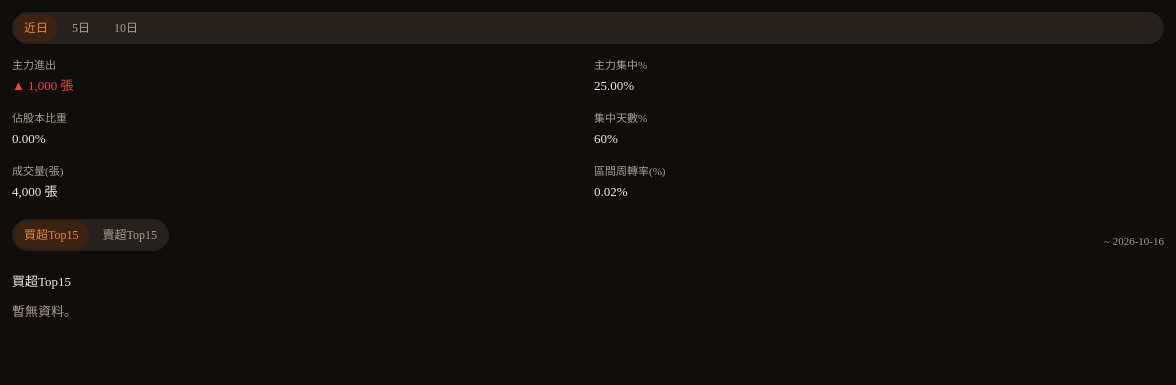
Scenario: ChipFlowsBody data › toggles between the buy and sell tables, and says when one side is empty
Expected: the heading "買超Top15" is shown, [12,274,71,289]
Expected: the text "暫無資料。" is shown, [12,304,77,319]
Step 1. Click the button "賣超Top15" → click(130, 235), box [92,221,167,249]
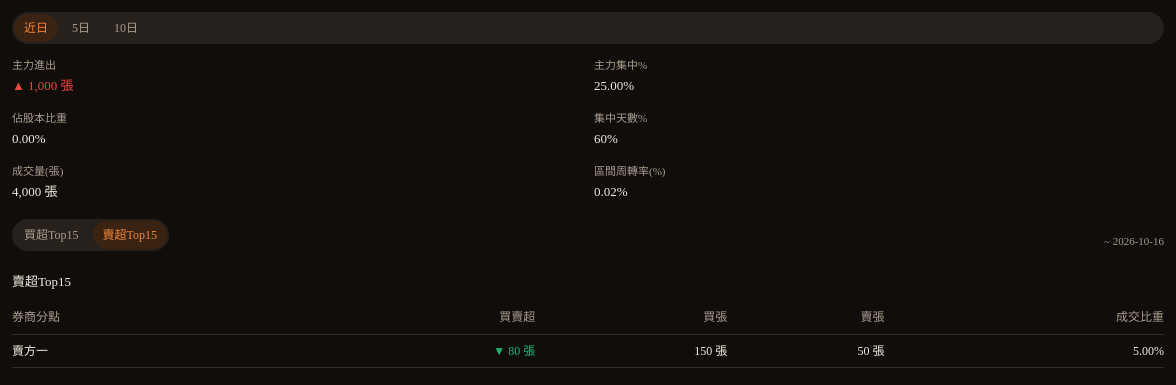
Expected: the heading "賣超Top15" is shown, [12,274,71,289]
Expected: the text "賣方一" is shown, [12,334,291,368]
Expected: the text "暫無資料。" is gone
